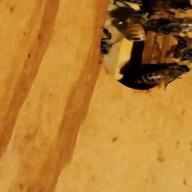Bee: (108, 7, 152, 44)
